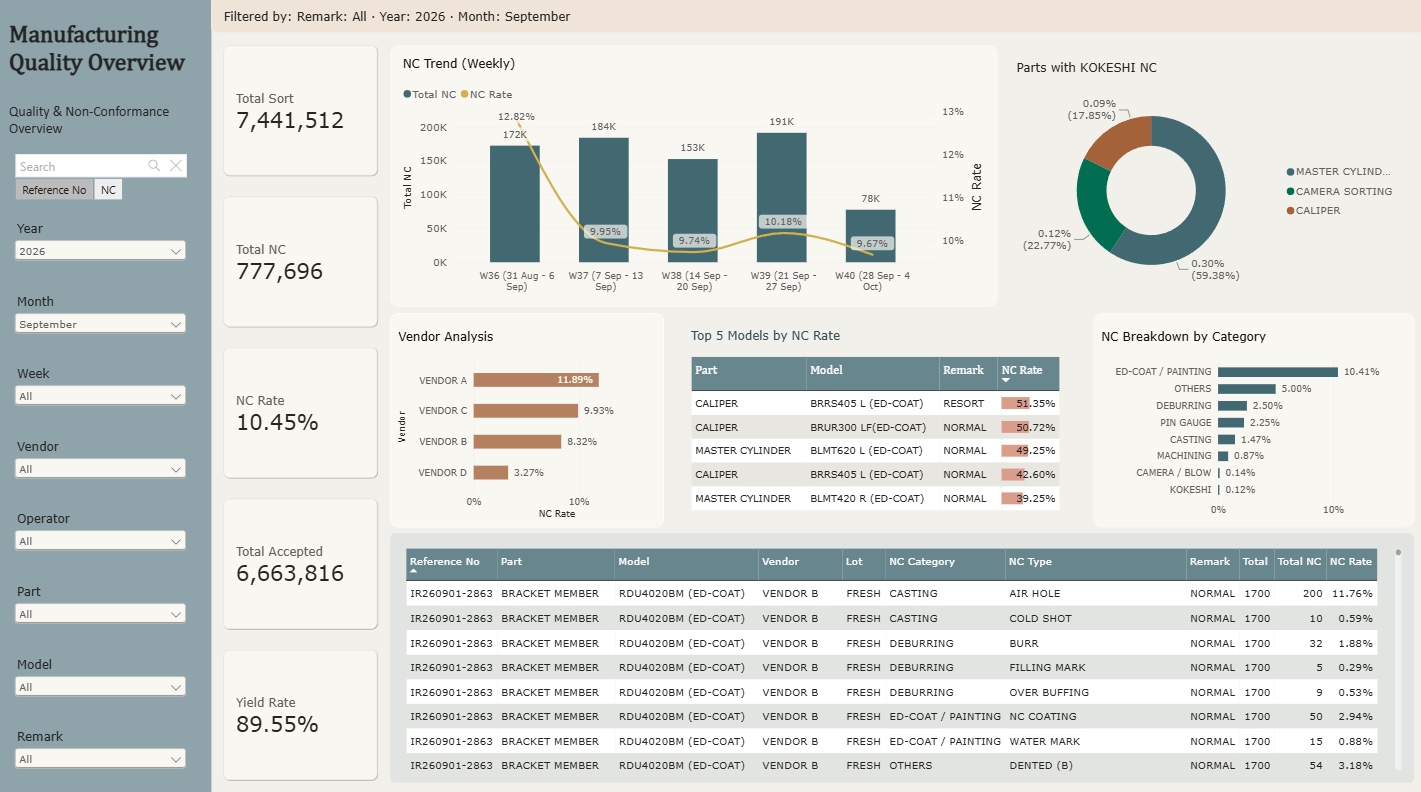

Layout of this report page (visuals, bound fields, positions):
{"tool":"powerbi","page":{"name":"Overview","canvas":[1920,1080],"ordinal":0},"visuals":[{"type":"shape","box":[0,-8,288,1088],"z":0},{"type":"slicer","fields":{"Values":["DimDate.Year"]},"box":[19.4,300.7,240,64],"z":1000},{"type":"slicer","fields":{"Values":["DimDate.Month"]},"box":[19.4,398.3,240,64],"z":2000},{"type":"slicer","fields":{"Values":["DimDate.Week00"]},"box":[19.4,495.9,240,64],"z":3000},{"type":"slicer","fields":{"Values":["NC Report.Vendor"]},"box":[19.4,593.5,240,64],"z":4000},{"type":"slicer","fields":{"Values":["NC Report.Operator"]},"box":[19.4,691.1,240,64],"z":5000},{"type":"slicer","fields":{"Values":["NC Report.Component"]},"box":[19.4,788.7,240,64],"z":6000},{"type":"slicer","fields":{"Values":["NC Report.Model"]},"box":[19.4,886.3,240,64],"z":7000},{"type":"cardVisual","fields":{"Data":["NC Report.Total","Sum(NC Report.NC Quantity)","NC Report.NC Rate","NC Report.Total Accepted","NC Report.Yield Rate"]},"box":[288,48,240,1024],"z":8000},{"type":"slicer","fields":{"Values":["NC Report.Remark"]},"box":[19.4,983.9,240,64],"z":10000},{"type":"textSearchSlicerF85E2E78BE4A4D7D9F99ED75B5D71C85","fields":{"fields":["NC Report.Reference No","NC Report.NC Type"]},"box":[3.4,192,272,112],"z":12000},{"type":"clusteredBarChart","title":"NC Breakdown by Category","fields":{"Category":["NC Report.NC Category","NC Report.NC Type"],"Y":["NC Report.NC Rate"]},"box":[1472,424.7,432,288],"z":13000},{"type":"cardVisual","fields":{"Data":["DimDate.Filter Summary"]},"box":[288,0,1632,48],"z":16000},{"type":"textbox","box":[16,32,256,160],"z":18000},{"type":"lineClusteredColumnComboChart","title":"NC Trend (Weekly)","fields":{"Category":["DimDate.Month","DimDate.WeekLabel","DimDate.Date"],"Y":["Sum(NC Report.NC Quantity)"],"Y2":["NC Report.NC Rate"]},"box":[528,64,816,352],"z":18500},{"type":"donutChart","title":"Parts with KOKESHI NC","fields":{"Category":["NC Report.Part","NC Report.Model"],"Y":["NC Report.NC Rate"]},"box":[1360,64,544,352],"z":19000},{"type":"clusteredBarChart","title":"Vendor Analysis","fields":{"Category":["NC Report.Vendor"],"Y":["NC Report.NC Rate"]},"box":[528,424.7,368,288],"z":19500},{"type":"tableEx","title":"Top 5 Models by NC Rate","fields":{"Values":["NC Report.Part","NC Report.Model","NC Report.Remark","NC Report.NC Rate"]},"box":[912,424.7,544,288],"z":20000},{"type":"tableEx","fields":{"Values":["NC Report.Reference No","NC Report.Part","NC Report.Model","NC Report.Vendor","NC Report.Lot","NC Report.NC Category","NC Report.NC Type","NC Report.Remark","NC Report.Total","Sum(NC Report.NC Quantity)","NC Report.NC Rate"]},"box":[528,720,1376,336],"z":20500}]}

Visuals, with their boxes in screenshot pixels (x1, y1, x2, y2), scaled from the page's 1920x1080 canvas onto the 1421x792 screenshot:
shape: {"left": 0, "top": 0, "right": 213, "bottom": 791}
slicer - DimDate.Year: {"left": 14, "top": 221, "right": 192, "bottom": 267}
slicer - DimDate.Month: {"left": 14, "top": 292, "right": 192, "bottom": 339}
slicer - DimDate.Week00: {"left": 14, "top": 364, "right": 192, "bottom": 411}
slicer - NC Report.Vendor: {"left": 14, "top": 435, "right": 192, "bottom": 482}
slicer - NC Report.Operator: {"left": 14, "top": 507, "right": 192, "bottom": 554}
slicer - NC Report.Component: {"left": 14, "top": 578, "right": 192, "bottom": 625}
slicer - NC Report.Model: {"left": 14, "top": 650, "right": 192, "bottom": 697}
cardVisual - NC Report.Total x Sum(NC Report.NC Quantity): {"left": 213, "top": 35, "right": 391, "bottom": 786}
slicer - NC Report.Remark: {"left": 14, "top": 722, "right": 192, "bottom": 768}
textSearchSlicerF85E2E78BE4A4D7D9F99ED75B5D71C85 - NC Report.Reference No x NC Report.NC Type: {"left": 3, "top": 141, "right": 204, "bottom": 223}
"NC Breakdown by Category" clusteredBarChart: {"left": 1089, "top": 311, "right": 1409, "bottom": 523}
cardVisual - DimDate.Filter Summary: {"left": 213, "top": 0, "right": 1420, "bottom": 35}
textbox: {"left": 12, "top": 23, "right": 201, "bottom": 141}
"NC Trend (Weekly)" lineClusteredColumnComboChart: {"left": 391, "top": 47, "right": 995, "bottom": 305}
"Parts with KOKESHI NC" donutChart: {"left": 1007, "top": 47, "right": 1409, "bottom": 305}
"Vendor Analysis" clusteredBarChart: {"left": 391, "top": 311, "right": 663, "bottom": 523}
"Top 5 Models by NC Rate" tableEx: {"left": 675, "top": 311, "right": 1078, "bottom": 523}
tableEx - NC Report.Reference No x NC Report.Part: {"left": 391, "top": 528, "right": 1409, "bottom": 774}
